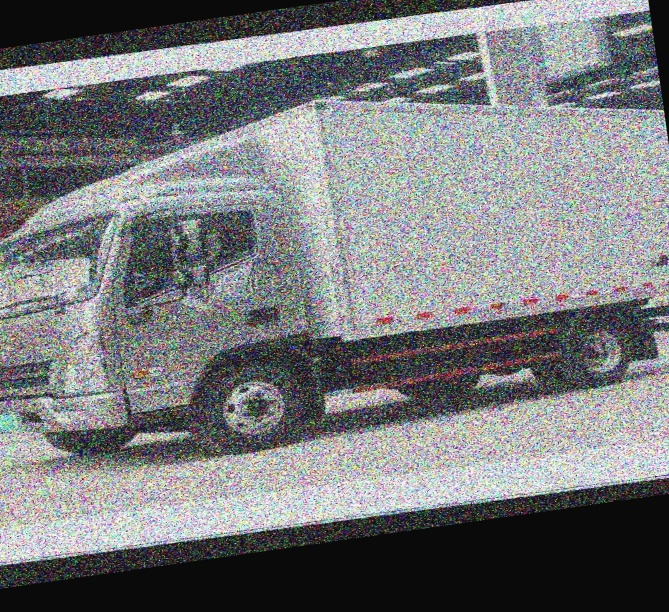truck: (0, 38, 669, 496)
